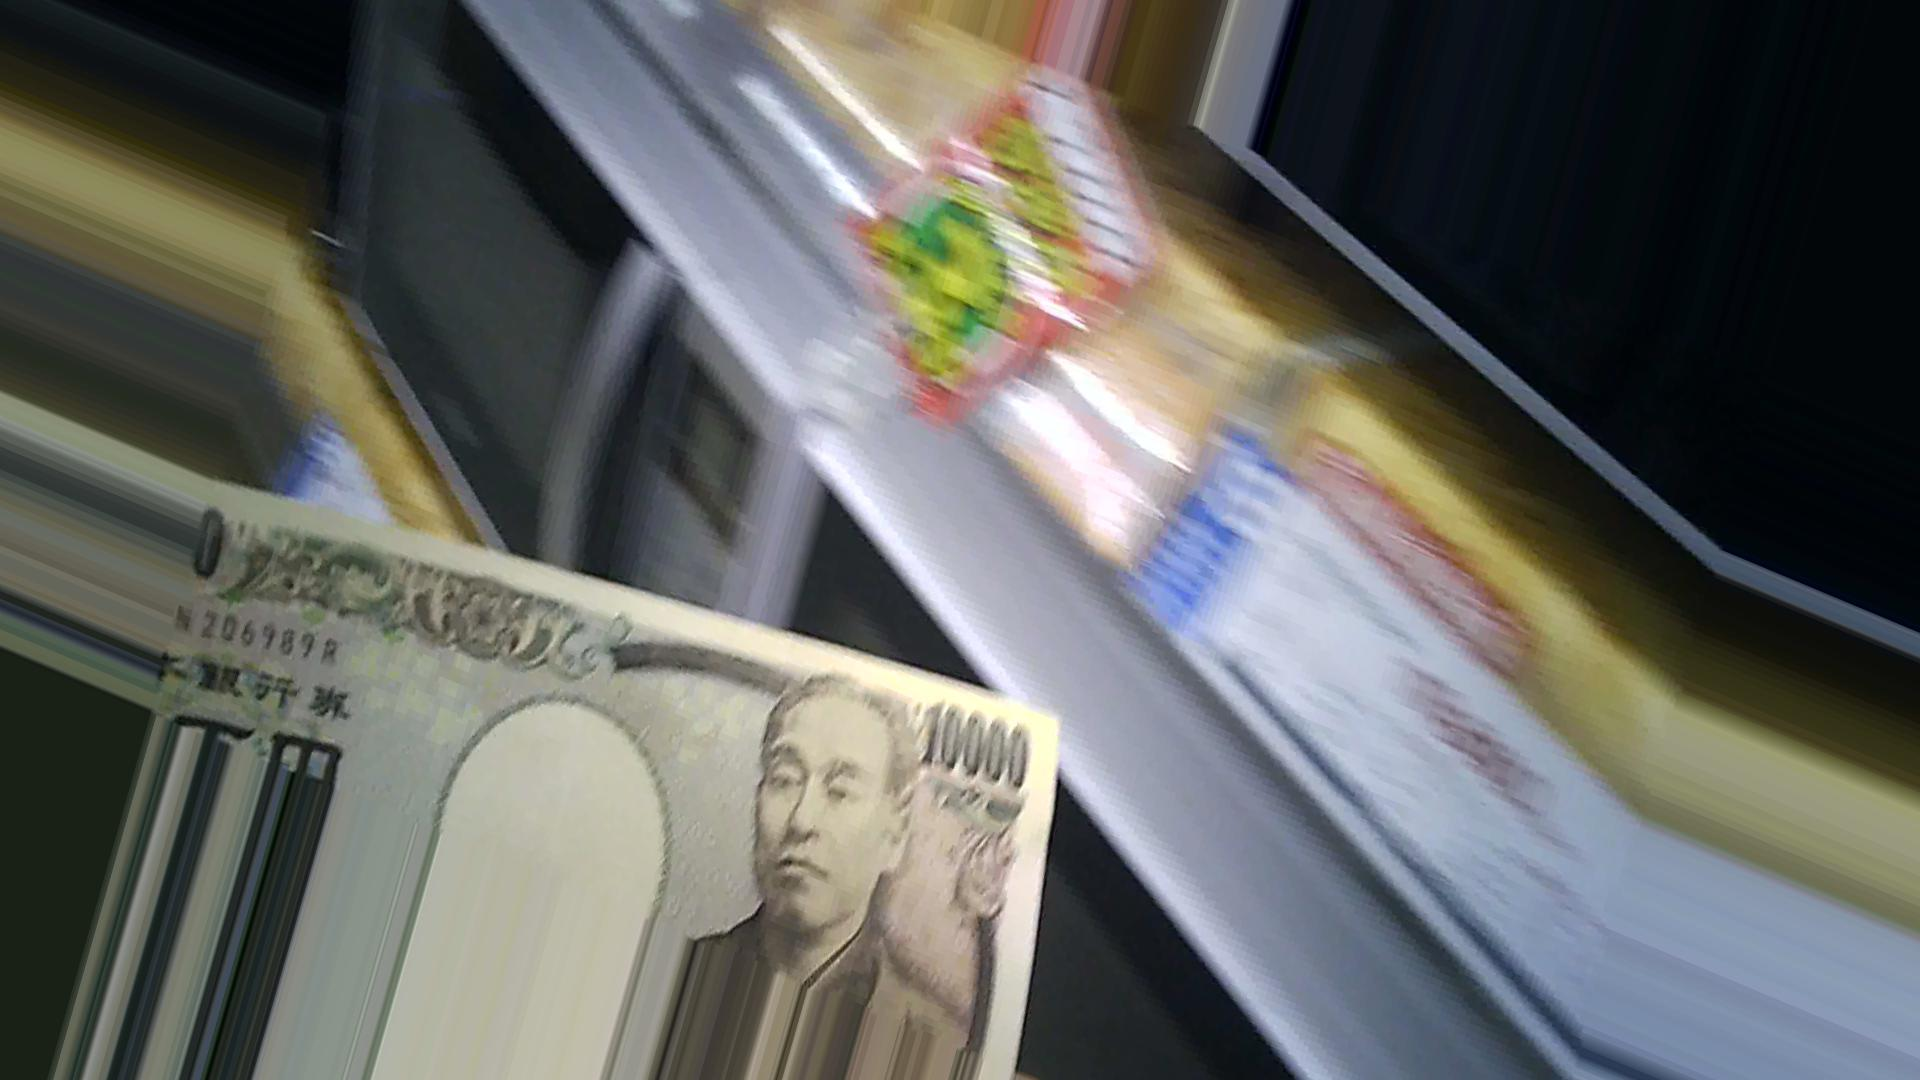10,000 Yen: (129, 465, 1040, 1054)
